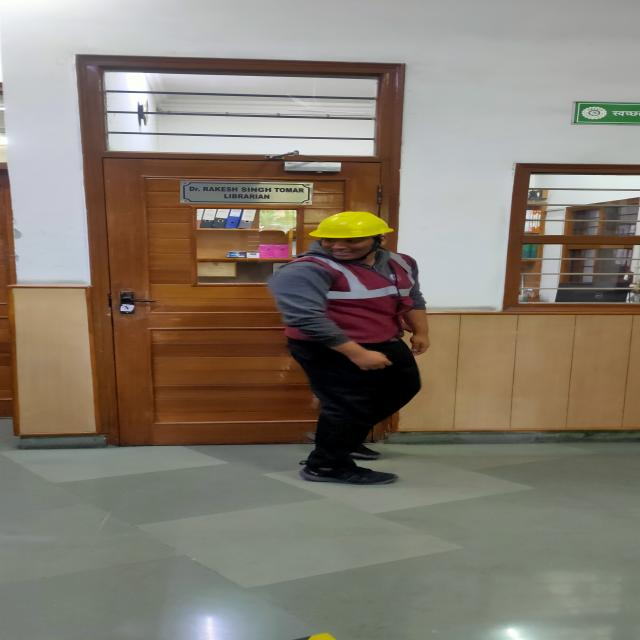safe: (274, 211, 427, 484)
